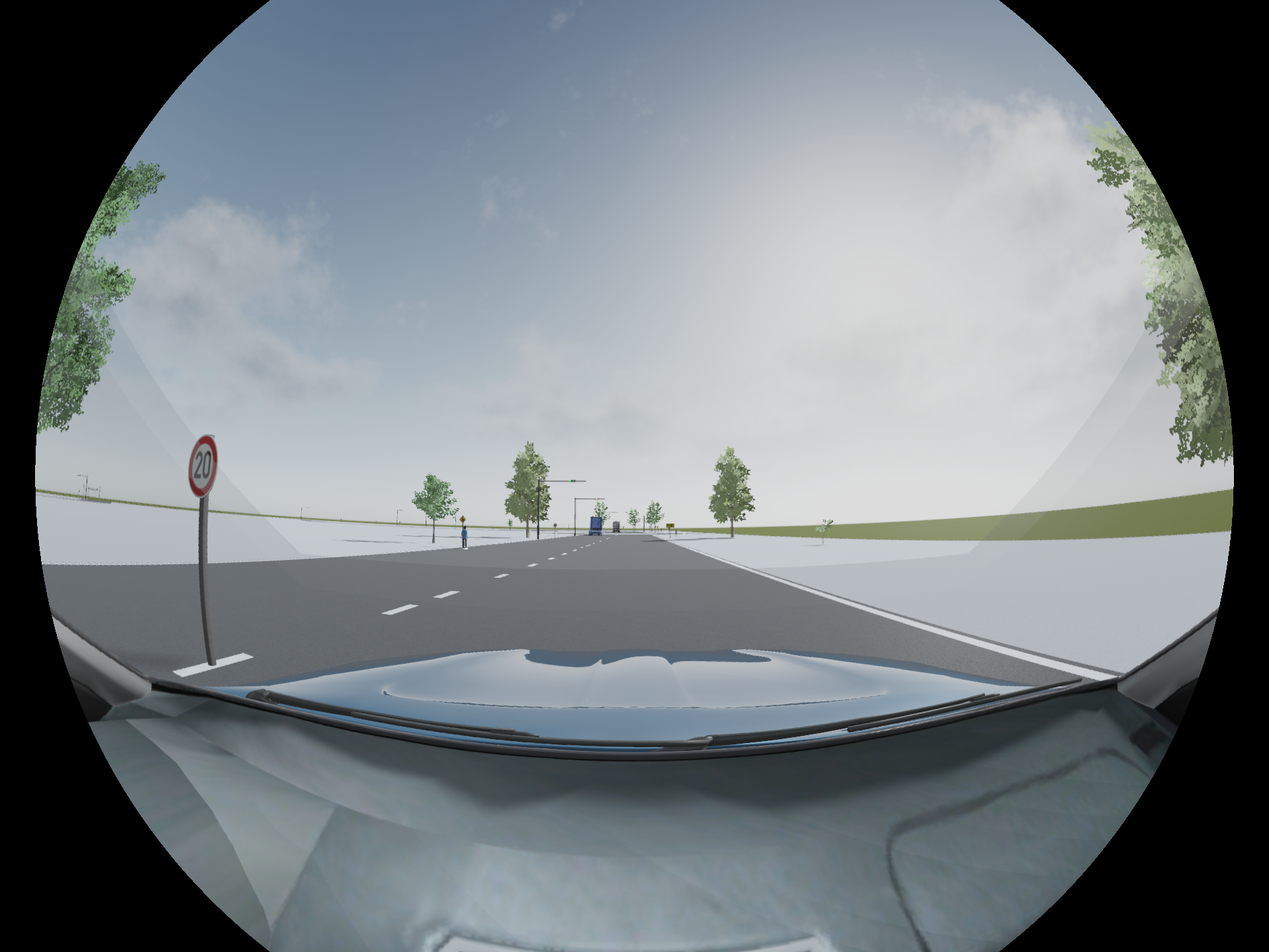Speed Limit 20: (189, 435, 218, 497)
